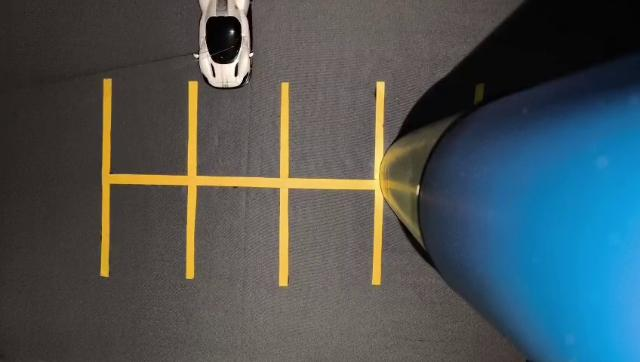toy_car: (183, 0, 265, 115)
